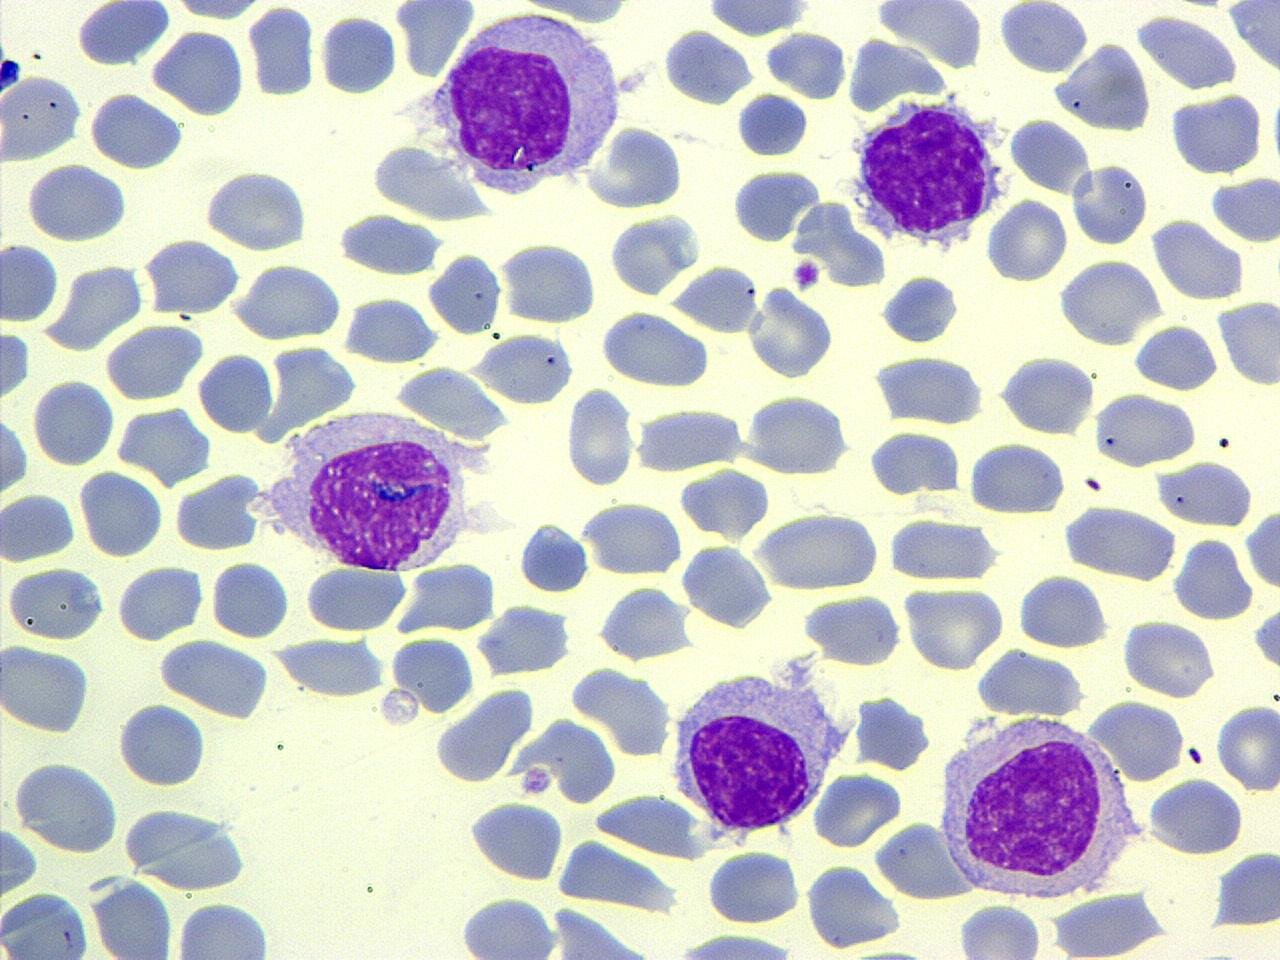Platelets: (792, 257, 822, 292), (0, 56, 22, 94)
RBC: (752, 507, 882, 593), (11, 758, 122, 854), (156, 636, 275, 722), (598, 304, 712, 392), (204, 165, 315, 253), (742, 391, 854, 478), (901, 582, 1008, 673), (1060, 500, 1180, 581), (800, 861, 906, 952), (232, 260, 345, 342), (1132, 9, 1242, 92), (582, 125, 687, 211), (148, 27, 248, 118), (0, 640, 93, 736), (1089, 389, 1201, 468), (394, 360, 511, 436), (1147, 216, 1249, 302), (744, 284, 835, 380), (113, 403, 217, 487), (23, 161, 128, 244), (593, 580, 698, 662), (499, 238, 600, 324), (994, 352, 1097, 436), (870, 351, 988, 424), (580, 498, 686, 578), (102, 322, 206, 403), (1167, 89, 1265, 175), (801, 590, 907, 670), (143, 234, 243, 318), (4, 562, 106, 643), (1144, 774, 1246, 856), (115, 700, 210, 788), (473, 329, 578, 407), (870, 1, 992, 69), (974, 646, 1089, 718), (1119, 616, 1217, 700), (983, 195, 1071, 285), (703, 846, 804, 926), (605, 213, 700, 296), (966, 440, 1068, 517), (0, 72, 85, 164), (78, 467, 162, 560), (399, 558, 501, 634), (884, 516, 1002, 582), (114, 560, 207, 642), (810, 768, 904, 850), (30, 376, 115, 466), (334, 211, 445, 278), (1152, 458, 1256, 530), (730, 164, 822, 245), (660, 27, 754, 107), (564, 384, 636, 488), (634, 405, 744, 473), (1014, 572, 1111, 648), (676, 464, 772, 541), (303, 562, 404, 634), (340, 293, 442, 364), (208, 556, 291, 642), (864, 426, 964, 498), (387, 635, 476, 716), (317, 10, 399, 97), (94, 876, 176, 960), (668, 262, 764, 334), (195, 351, 275, 436), (998, 1, 1090, 75), (1006, 115, 1090, 196), (1069, 161, 1149, 246), (456, 893, 558, 959), (854, 689, 936, 769), (248, 4, 317, 99), (427, 251, 504, 337), (394, 2, 477, 80), (171, 899, 278, 958), (762, 29, 850, 100), (1215, 700, 1279, 794), (1217, 295, 1279, 390), (517, 518, 591, 594), (1, 489, 78, 562), (734, 90, 812, 158), (0, 238, 62, 323), (954, 899, 1044, 958), (1207, 172, 1279, 244), (1224, 0, 1280, 79), (0, 821, 41, 899), (0, 408, 30, 497), (161, 0, 270, 24), (0, 330, 31, 402)
WBC: (428, 7, 624, 204), (933, 714, 1133, 902), (264, 406, 472, 577), (666, 659, 846, 839), (850, 94, 1006, 255), (121, 802, 254, 894), (752, 507, 882, 594), (433, 678, 538, 785), (12, 759, 126, 853), (1055, 254, 1163, 349), (204, 166, 314, 256), (1050, 39, 1154, 134), (156, 637, 273, 721), (677, 536, 777, 632), (599, 307, 714, 389), (582, 123, 688, 212), (802, 860, 904, 951), (150, 25, 248, 117), (1136, 8, 1242, 93), (1168, 88, 1268, 177), (2, 562, 110, 644), (22, 161, 130, 244), (465, 798, 567, 884), (502, 236, 600, 327), (1065, 501, 1179, 579), (114, 402, 216, 489), (236, 261, 344, 342), (2, 642, 97, 734), (1091, 388, 1199, 468), (1145, 772, 1245, 858), (872, 352, 988, 426), (996, 352, 1098, 436), (107, 321, 210, 403), (86, 90, 187, 172), (583, 497, 688, 576), (596, 582, 696, 664), (116, 700, 210, 788), (592, 790, 708, 860), (608, 212, 702, 297), (474, 601, 577, 679), (705, 846, 804, 926), (335, 208, 446, 278), (660, 24, 754, 108), (148, 236, 244, 318), (975, 648, 1083, 720), (114, 559, 204, 645), (172, 473, 268, 554), (32, 378, 116, 470), (1170, 532, 1254, 624), (730, 166, 828, 244), (1016, 572, 1111, 652), (810, 769, 903, 851), (676, 462, 771, 542), (1155, 456, 1255, 531), (273, 636, 388, 702), (476, 332, 577, 406), (455, 891, 563, 959), (866, 425, 962, 500), (390, 632, 474, 718), (996, 2, 1090, 77), (72, 1, 174, 69), (307, 565, 408, 633), (427, 249, 504, 338), (170, 899, 282, 960), (1, 889, 94, 959), (854, 693, 932, 774), (877, 270, 959, 348), (1131, 320, 1219, 392), (764, 26, 848, 102), (517, 518, 591, 596), (735, 89, 810, 160), (1208, 170, 1280, 245), (664, 926, 808, 960), (699, 0, 818, 36), (1244, 504, 1280, 595), (1252, 598, 1280, 680)
